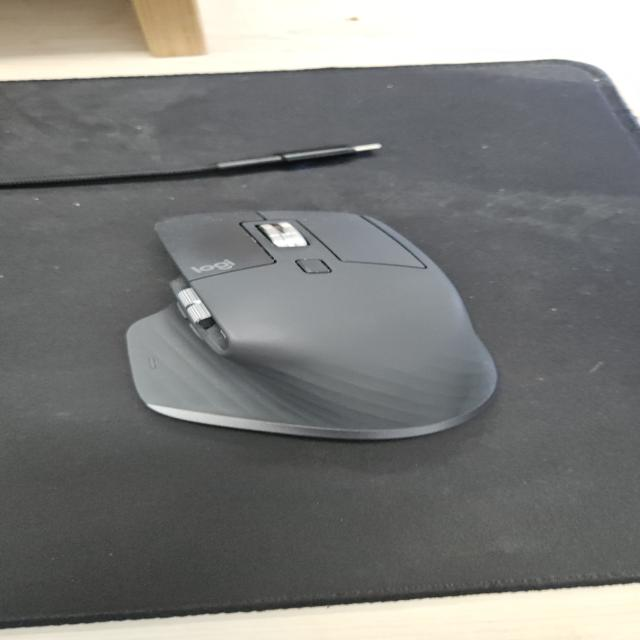Mouse: (122, 207, 502, 441)
